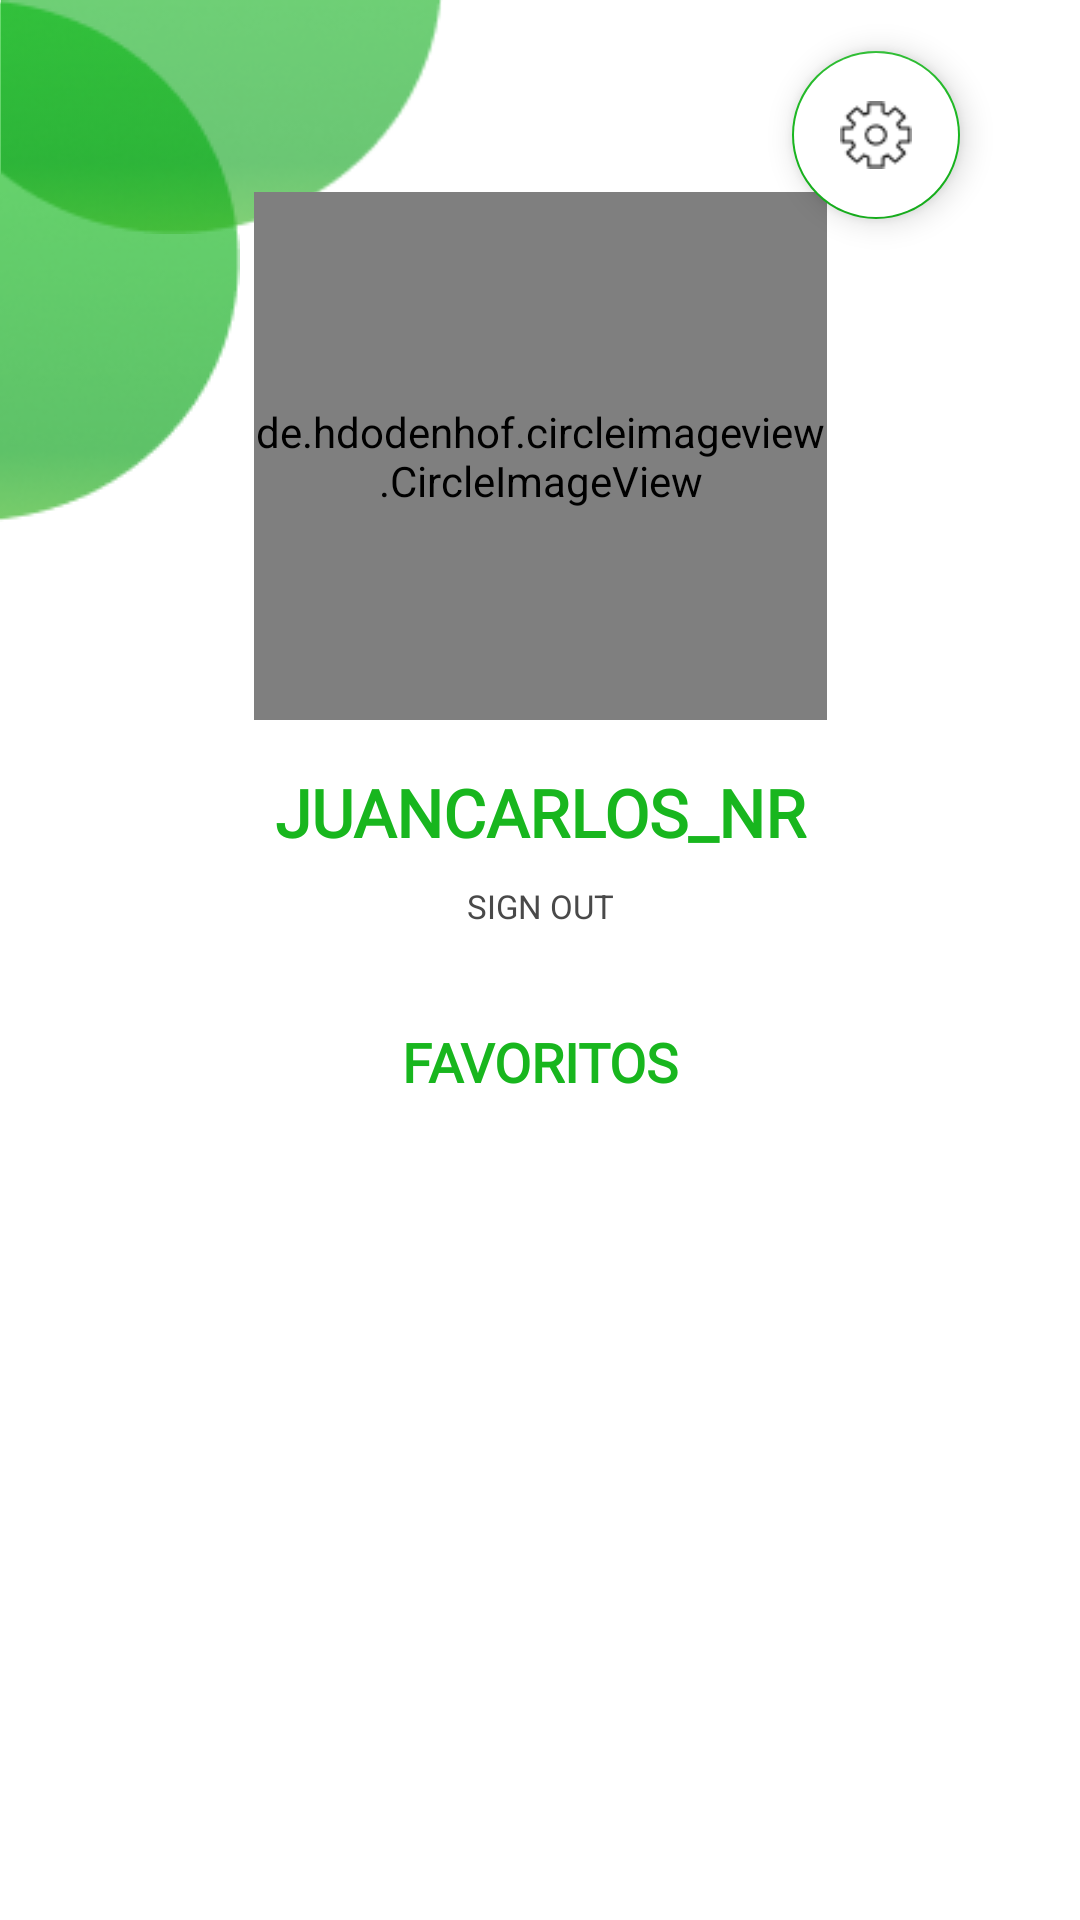

Icon bounding boxes for this 1080w x 1920h phone screenshot, format bbox=[x1, y1, x2, y2]:
settings: bbox=[792, 51, 960, 219]
